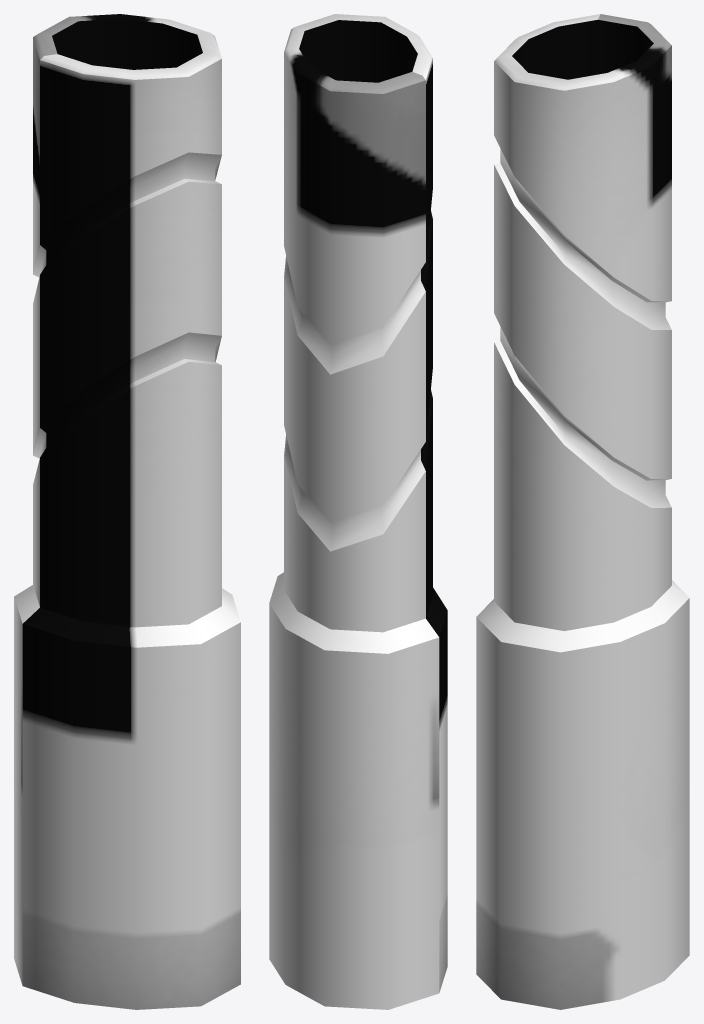
The model's file is WF_huge_chimney.fbx.
3 views of the same model, side by side, from view 1: azimuth 30°, elevation 25°; view 2: azimuth 150°, elevation 25°; view 3: azimuth 270°, elevation 25° (orthographic).
Parts seen in each view (by area): view 1: WF_huge_chimney; view 2: WF_huge_chimney; view 3: WF_huge_chimney.
Part boxes in pixels (<box>): WF_huge_chimney: <box>14,14,240,1009</box>; WF_huge_chimney: <box>269,14,447,1009</box>; WF_huge_chimney: <box>476,14,689,1009</box>.
Bounding box in the file's own units: 48.58 × 230 × 48.58.
